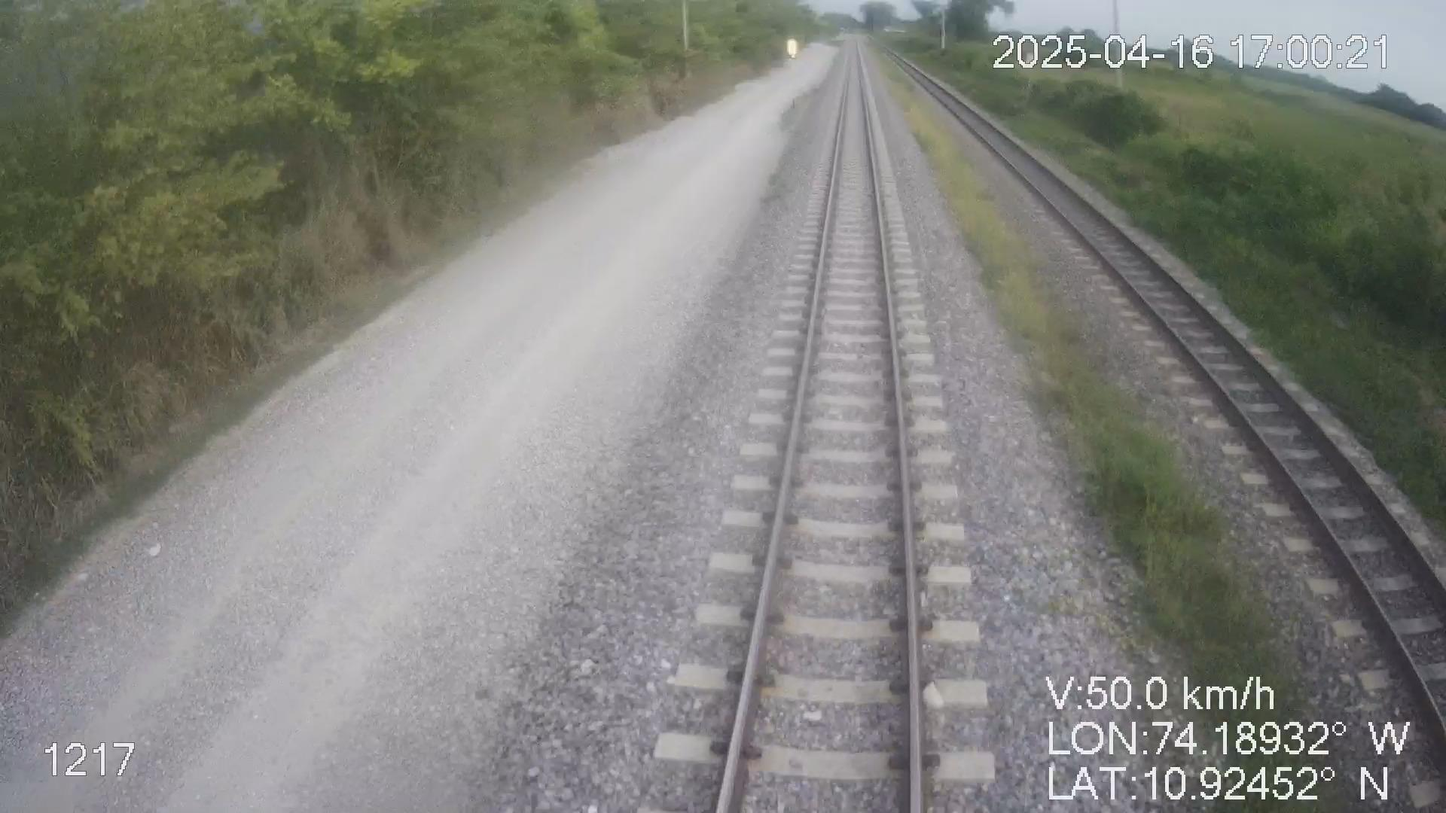Pasto: (0, 0, 833, 652), (889, 29, 1445, 589)
